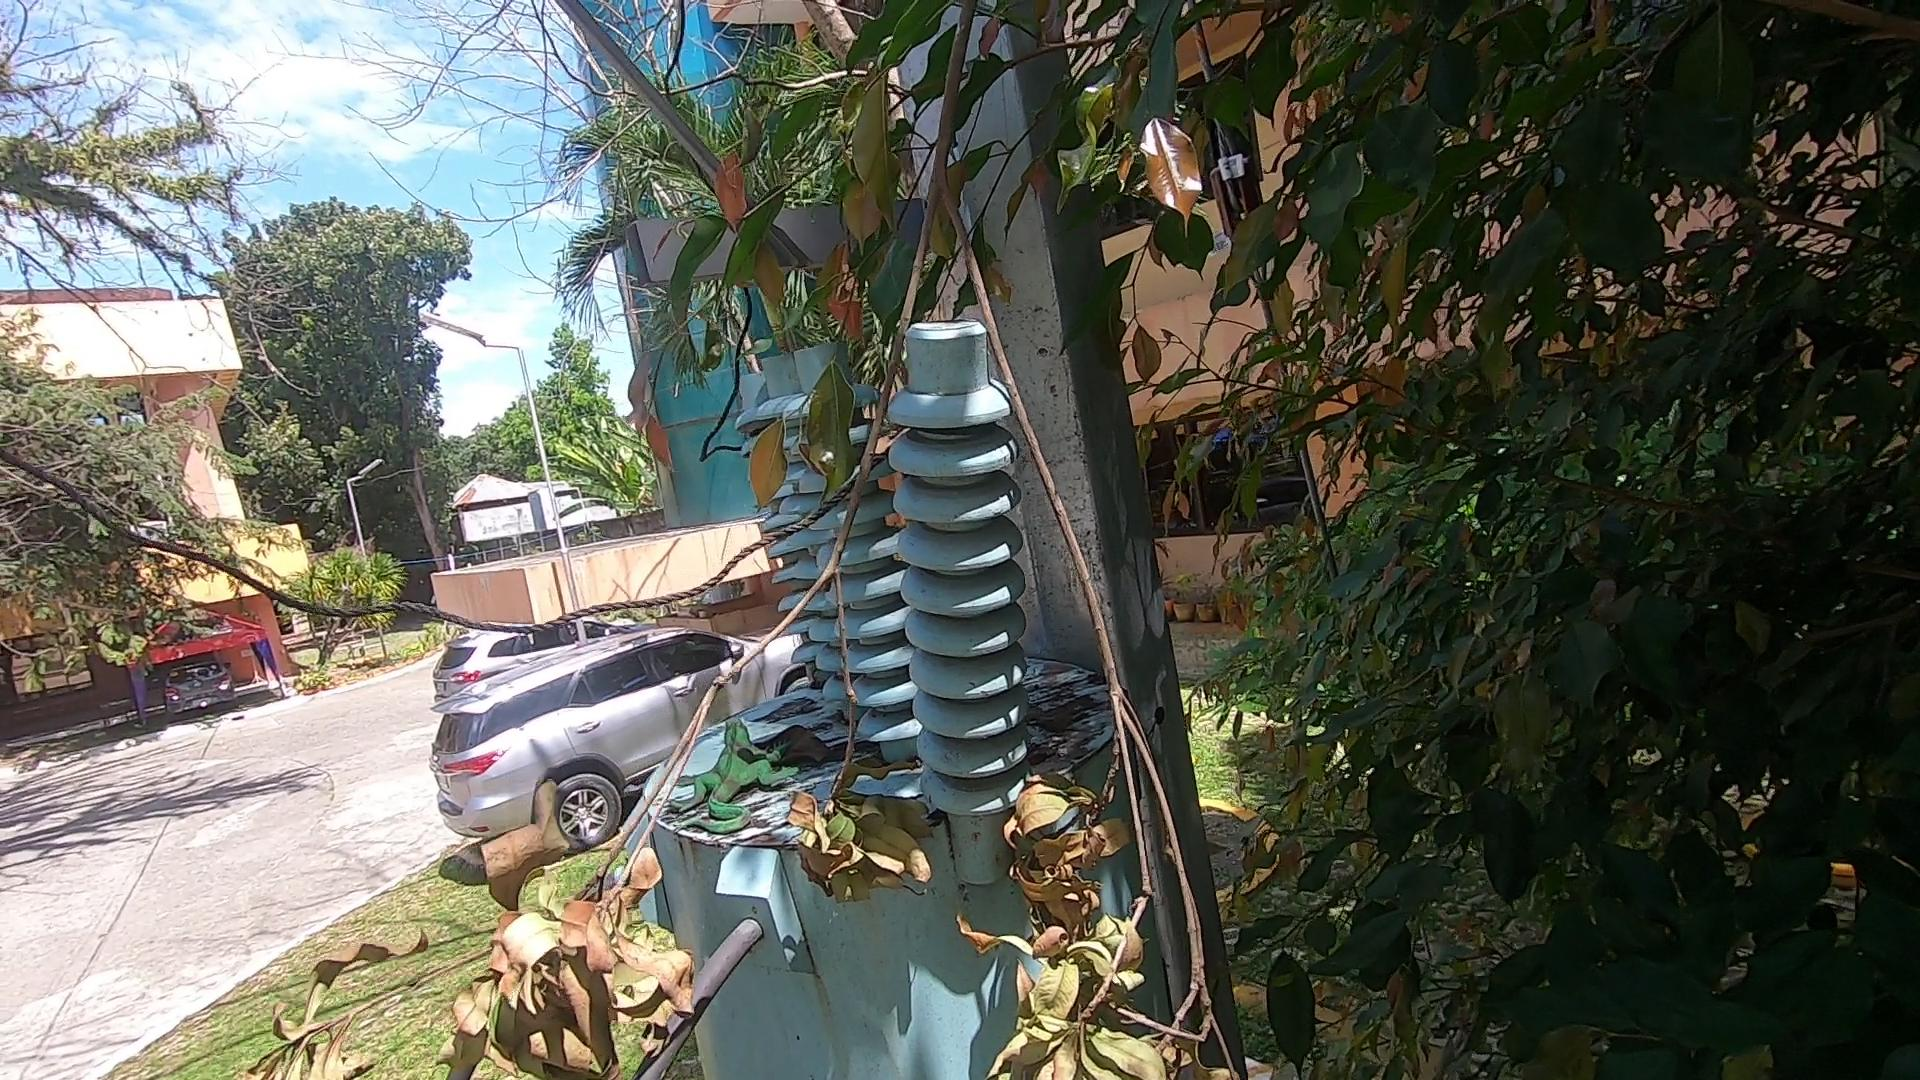branch with leaves: (228, 1, 1247, 1075)
leaf: (781, 717, 832, 770)
